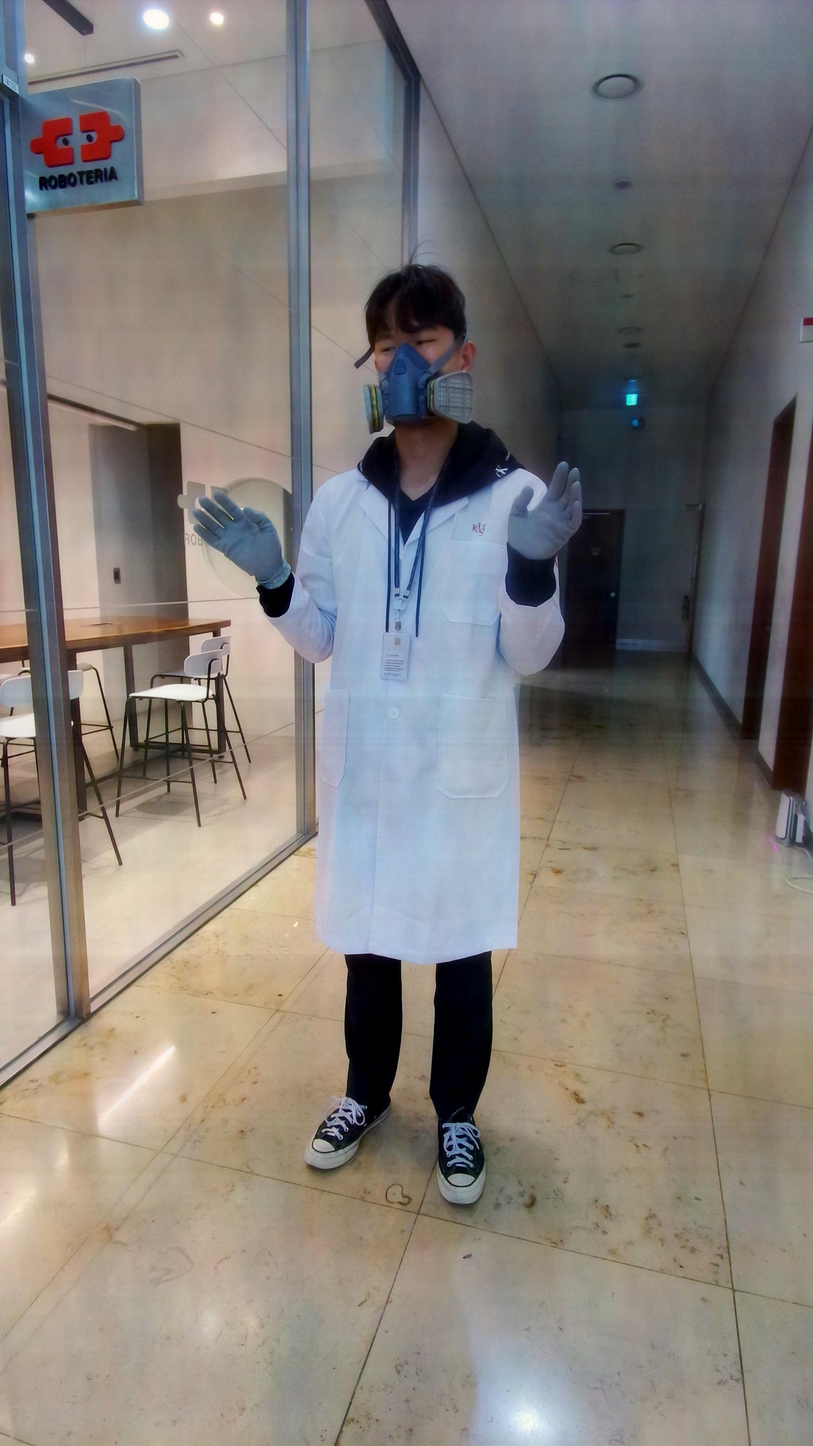Lab_coat: (257, 467, 566, 966)
